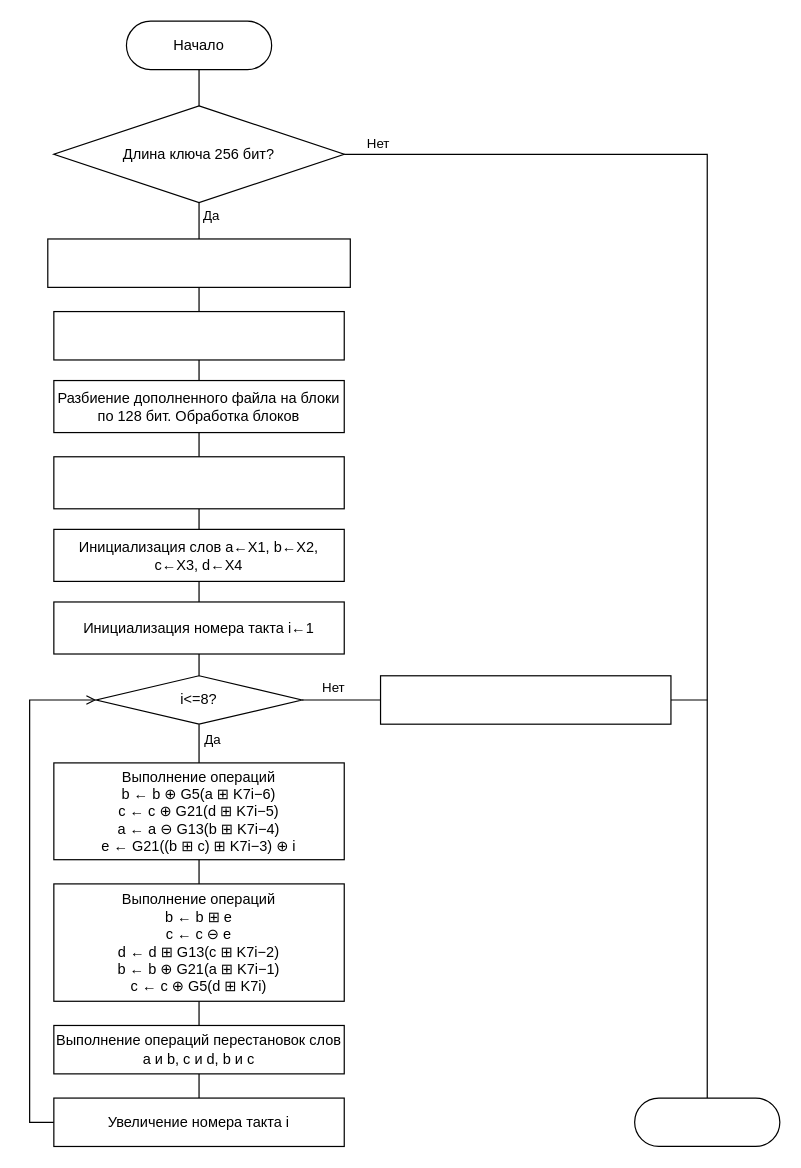
The diagram is 801 pixels wide and 1168 high, and some of its shapes have lost their labels. The shapes that lost their labels are listed below. From the top down, each one's centre as x and y in pixels, then its label:
At point 198,262: "Формирование 56 подключей K1...K56".
At point 198,335: "Чтение входного файла и дополнение байтами до размера, кратного 128 битам".
At point 198,482: "Разбиение блока на четыре 32-битных слова X1, X2, X3, X4".
At point 525,699: "Формирование зашифрованного 128 битного блока и его запись в файл".
At point 706,1121: "Конец".
